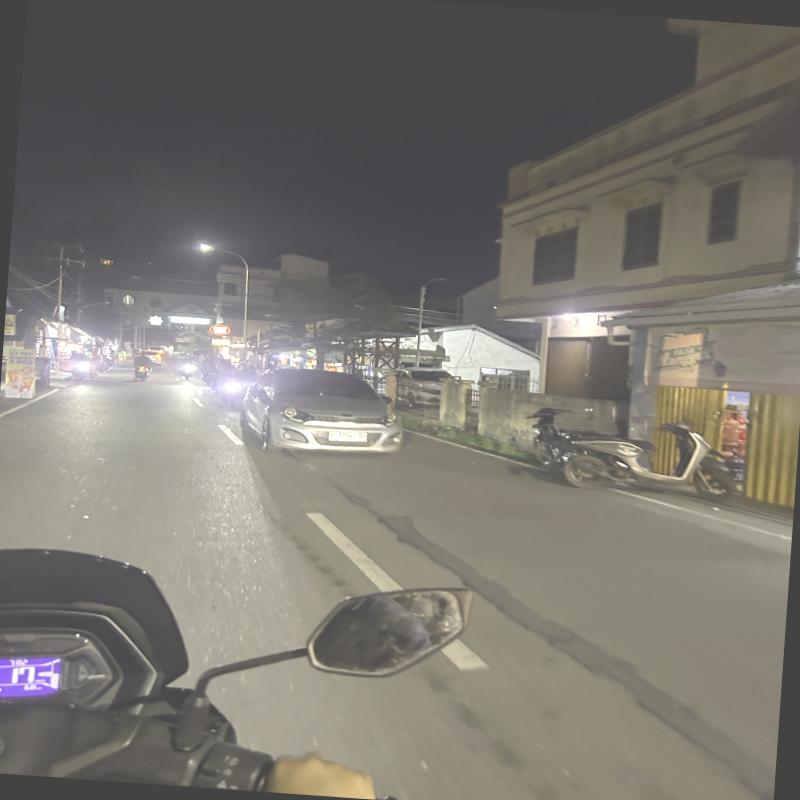license plate on a car: (326, 428, 377, 447)
